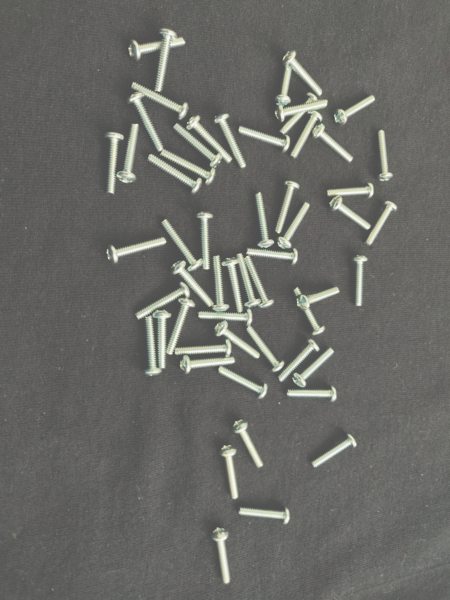longscrew: (123, 91, 164, 153), (146, 153, 203, 196), (185, 114, 233, 165), (172, 122, 224, 169), (130, 81, 190, 121), (160, 219, 204, 273), (134, 281, 191, 321), (159, 148, 217, 187), (170, 260, 215, 309), (277, 338, 321, 383), (281, 50, 323, 97), (245, 326, 286, 373), (212, 114, 247, 169), (213, 321, 262, 360), (277, 93, 319, 138), (217, 366, 269, 401), (291, 347, 335, 388), (231, 418, 266, 469), (310, 433, 358, 470), (166, 298, 196, 357), (292, 285, 326, 337), (311, 123, 354, 164), (244, 255, 276, 310), (152, 26, 178, 93), (275, 202, 311, 250), (106, 236, 167, 264), (290, 111, 323, 160), (115, 123, 141, 184), (364, 201, 398, 247), (127, 36, 187, 62), (329, 196, 372, 231), (102, 131, 125, 196), (237, 126, 292, 153), (274, 181, 301, 235), (236, 253, 262, 309), (334, 95, 377, 127), (274, 99, 329, 124), (221, 257, 245, 314), (209, 527, 232, 586), (143, 314, 163, 378), (254, 192, 276, 250), (218, 444, 240, 501), (236, 504, 292, 526), (178, 354, 236, 375), (195, 211, 215, 271), (296, 285, 340, 312), (153, 309, 172, 370), (174, 339, 233, 358), (197, 308, 253, 328), (211, 255, 230, 312), (245, 247, 299, 266), (350, 255, 369, 308), (376, 130, 395, 182), (325, 182, 376, 201), (286, 386, 339, 403), (274, 61, 293, 107)
